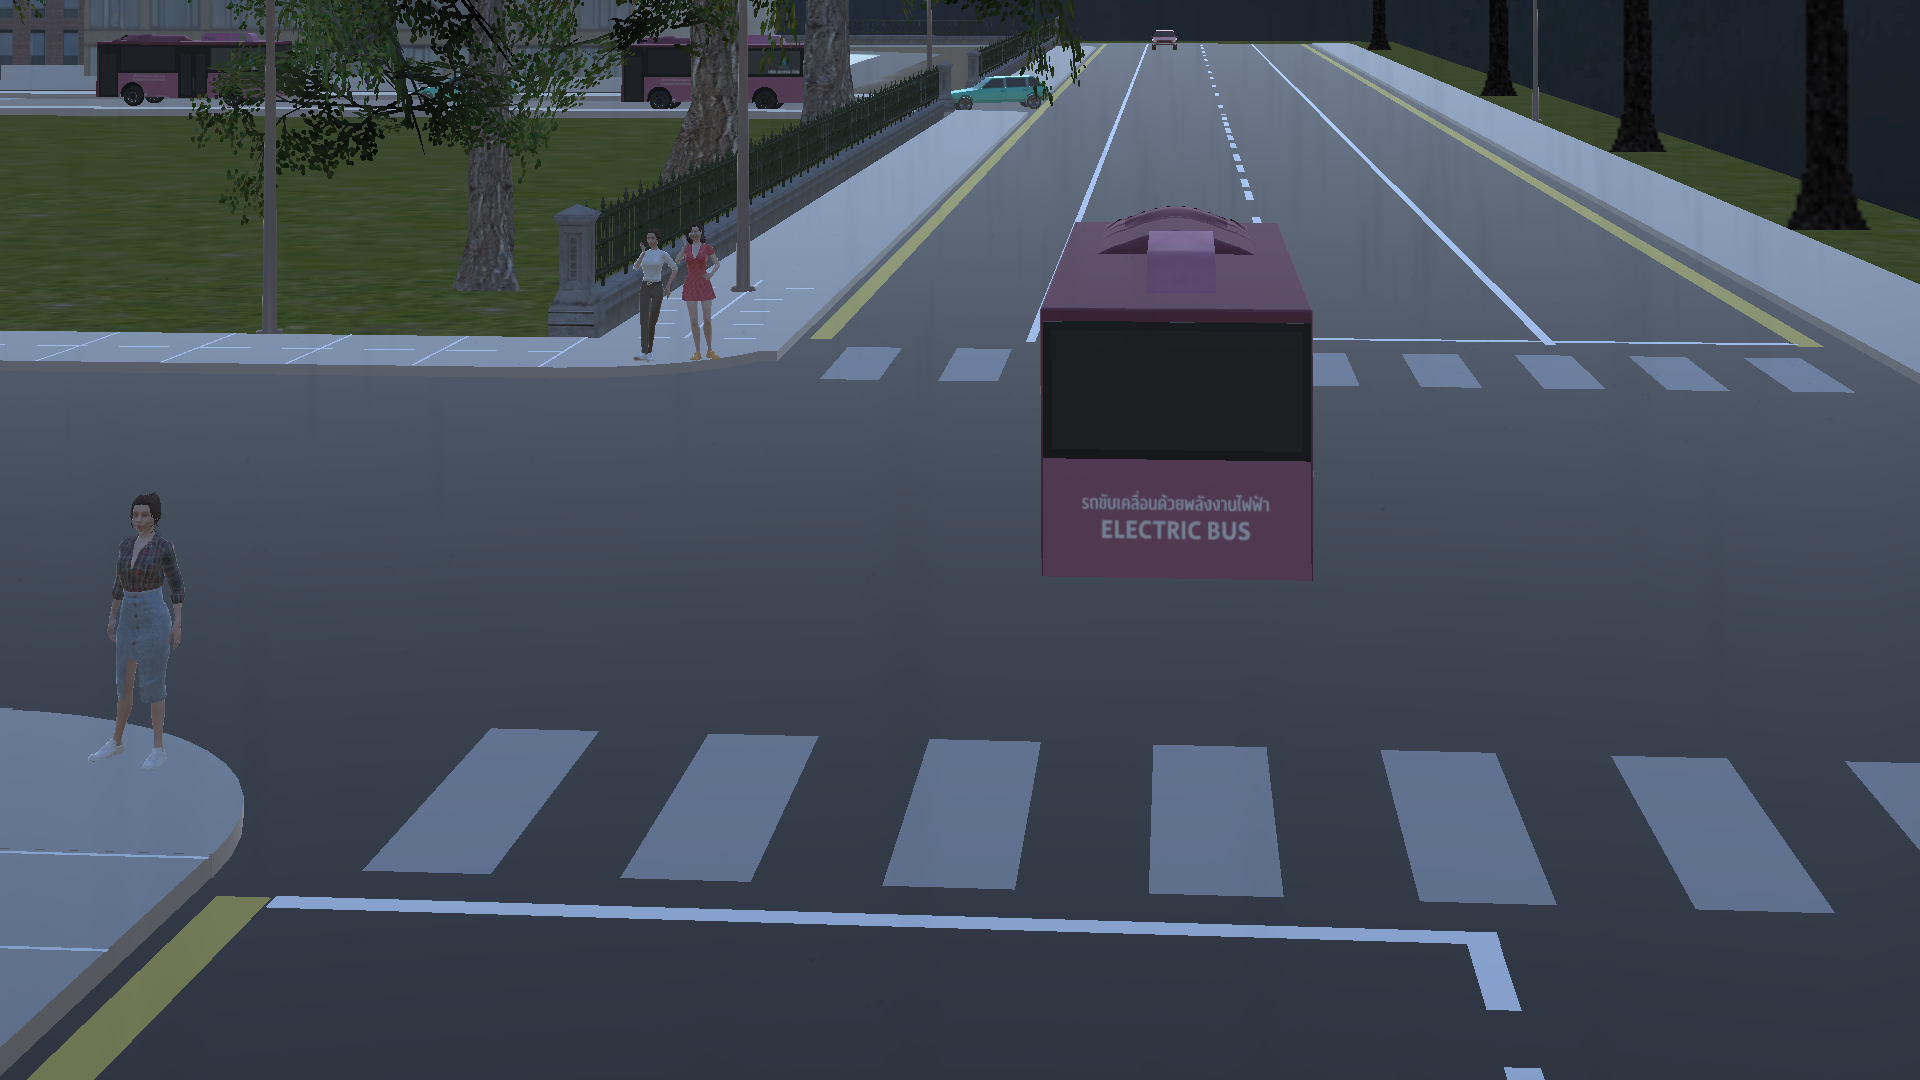pedestrian: (84, 477, 192, 762), (668, 224, 730, 365), (631, 230, 668, 372)
